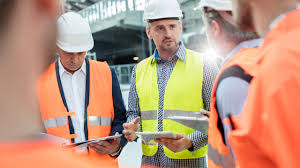helmet: (56, 11, 95, 51), (143, 1, 184, 18)
vest: (39, 66, 120, 168), (135, 62, 207, 159), (212, 52, 252, 167)
